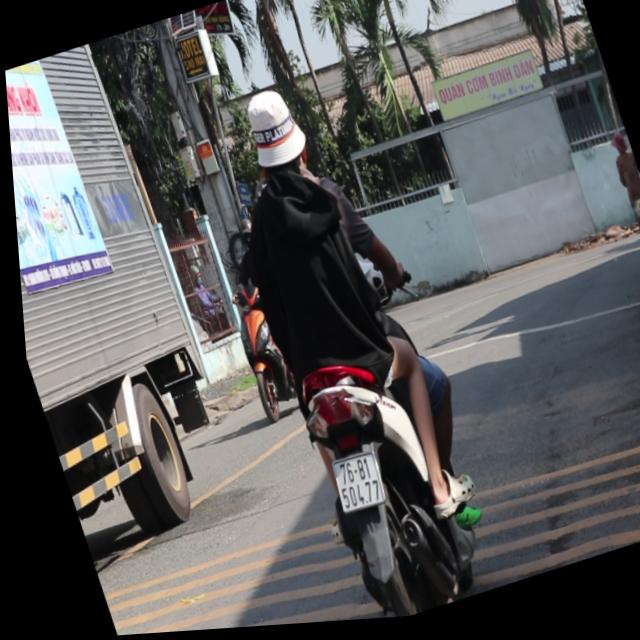licenseplate: (177, 55, 507, 631)
motorcyclist: (229, 85, 313, 188)
nohelmet: (319, 453, 380, 519)
